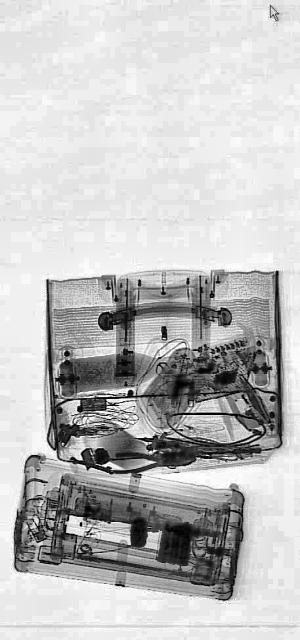Pliers: (109, 448, 195, 474)
Wrench: (68, 456, 112, 474)
